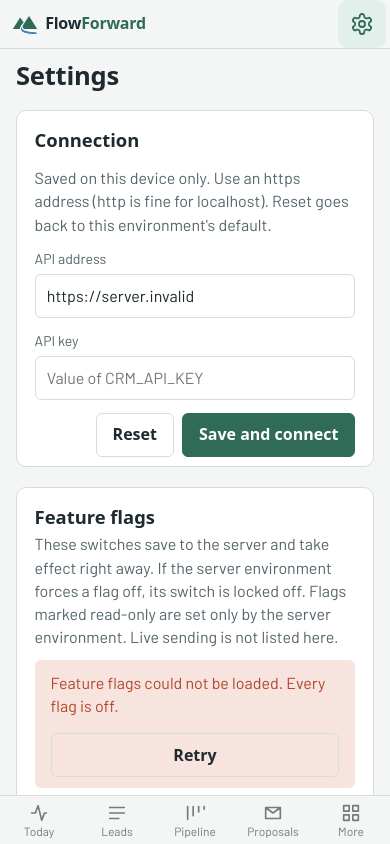
Test case: phone tab bar › opens More onto Projects
What coordinates should you click on to do the following:
click the link "More"
I would click on:
 (351, 820)
Its box is [338,802,364,838].
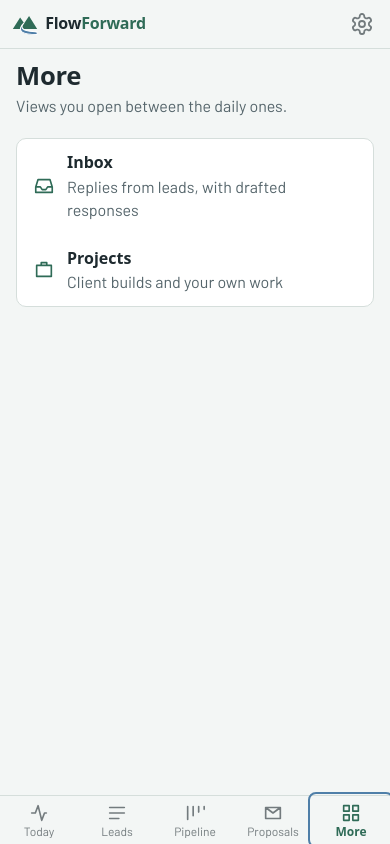
expect the heading "More" is shown: met, box [16,58,81,93]
expect the heading "Settings" is gone: met
